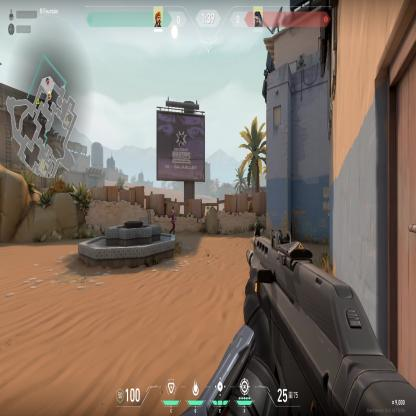enemy: (169, 206, 175, 235)
